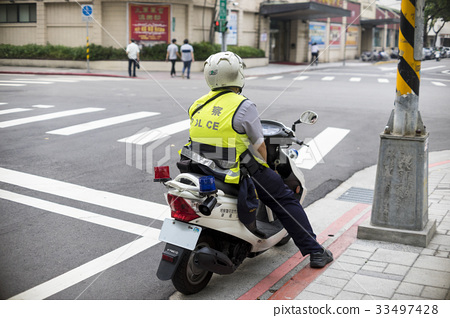helmet: (203, 49, 246, 88)
